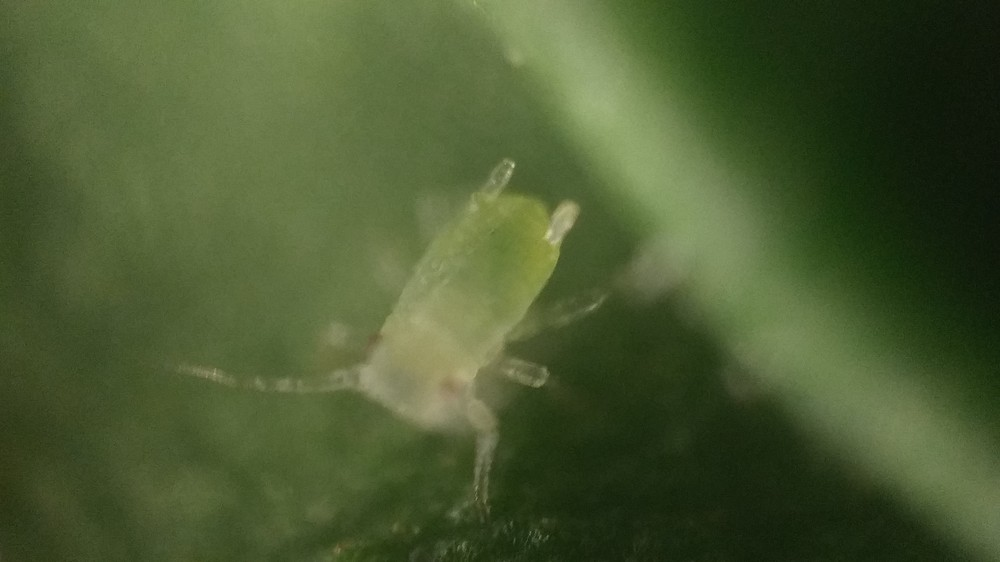Pulgon: (248, 139, 680, 516)
